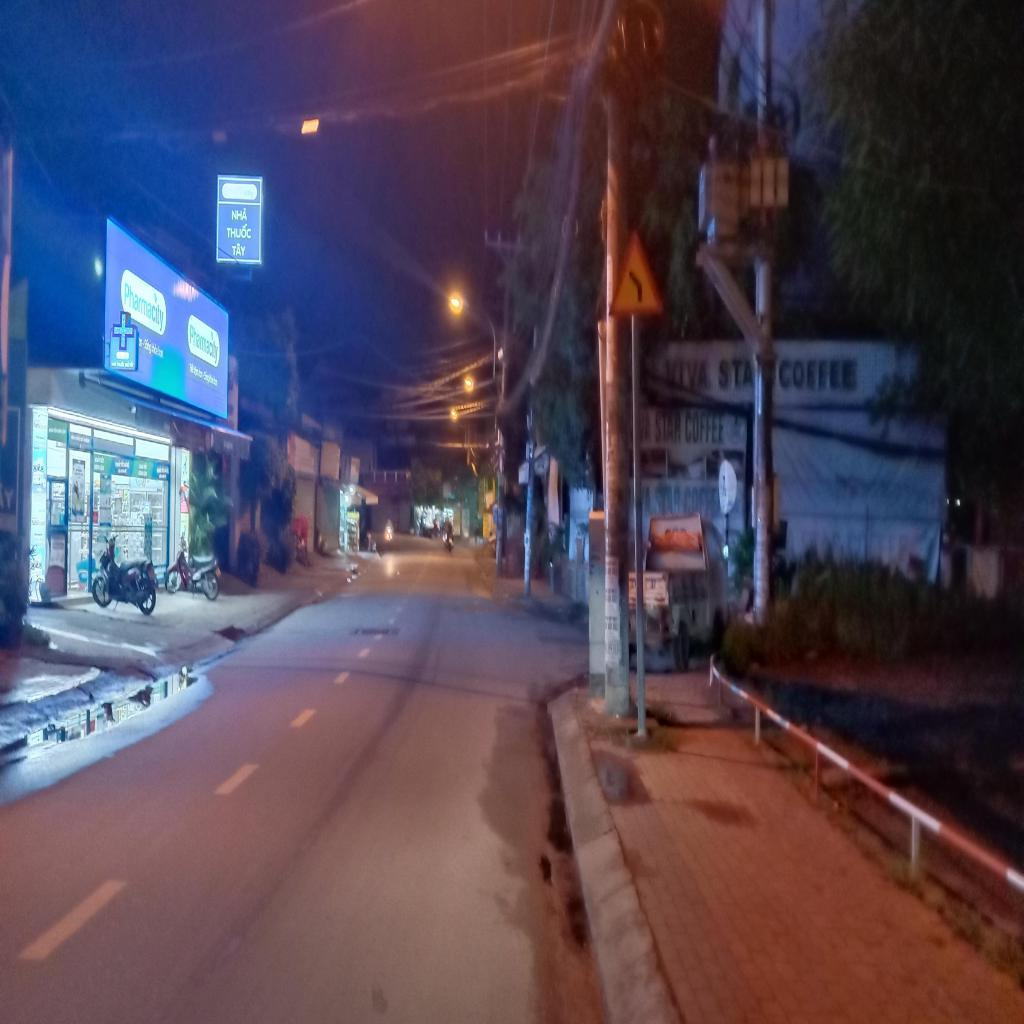cho_ngoat_nguy_hiem_ben_trai: (608, 222, 661, 315)
